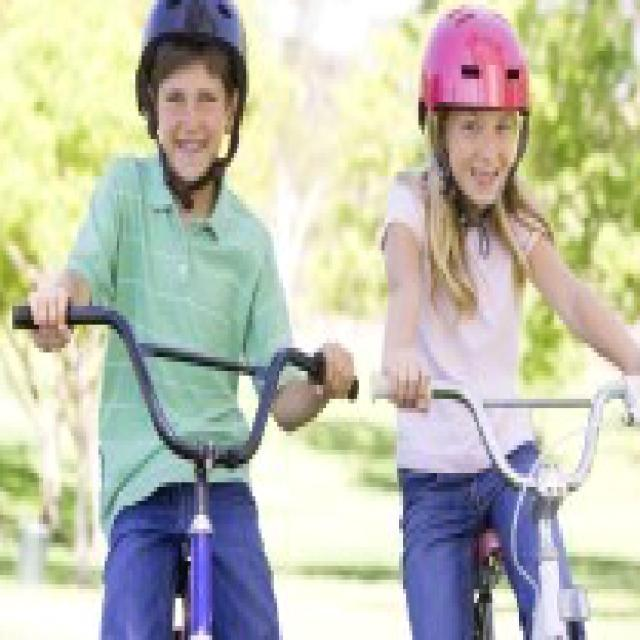Helmet: (132, 0, 258, 195)
